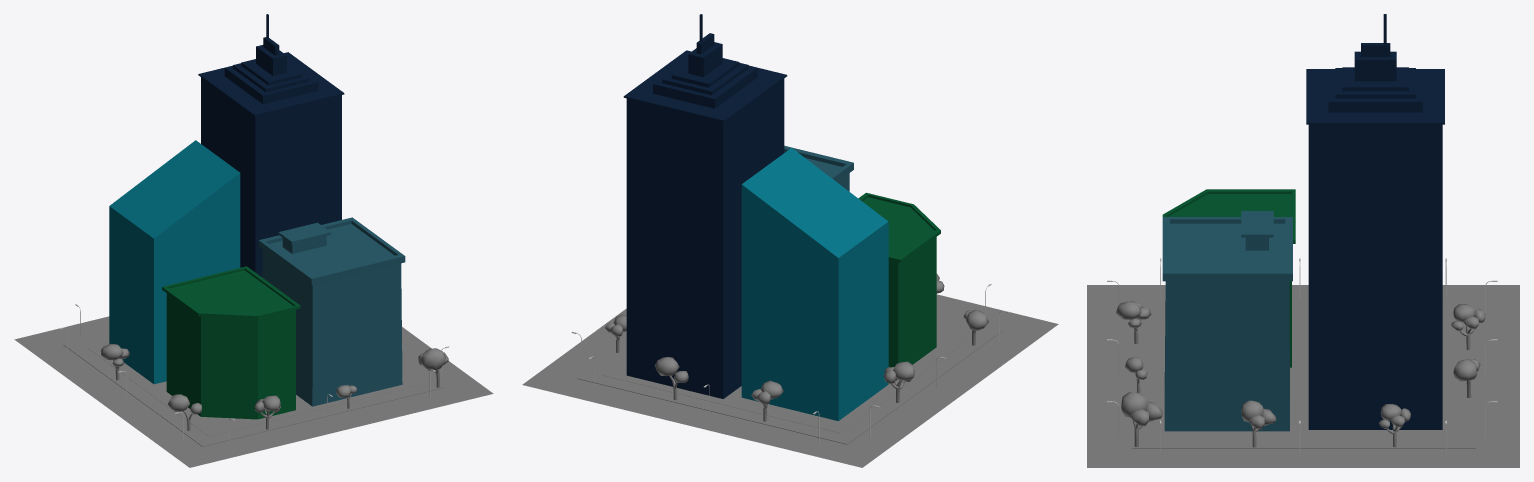
The model's file is Edificios_BO-HP.fbx.
The picture shows the model from 3 angles, left to right: view 1: azimuth 30°, elevation 25°; view 2: azimuth 150°, elevation 25°; view 3: azimuth 270°, elevation 25°; orthographic projection. The views are drawn at different scales.
Parts seen in each view (by area): view 1: Edificios_BO; view 2: Edificios_BO; view 3: Edificios_BO.
Boxes of the visible parts, x1,y1,x2,y2 form: Edificios_BO: (14, 14, 493, 467); Edificios_BO: (522, 14, 1058, 467); Edificios_BO: (1087, 14, 1519, 467).
Bounding box in the file's own units: 100 × 101 × 100.
